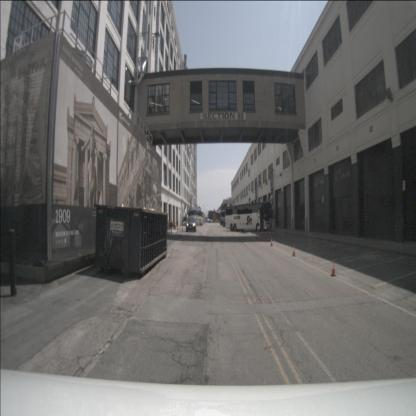cone: (330, 259, 336, 276), (292, 244, 296, 257), (270, 238, 273, 247), (176, 224, 179, 231), (181, 225, 184, 232), (255, 233, 258, 240), (257, 228, 259, 235), (258, 235, 260, 240)
